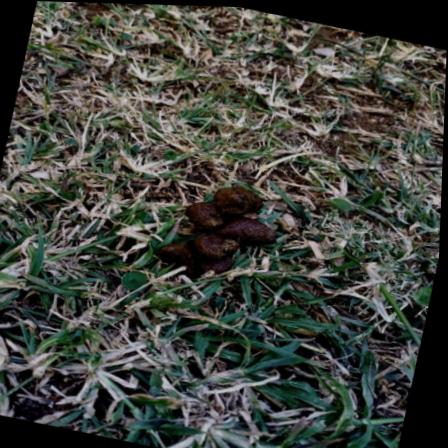dog-poop: (148, 161, 286, 291)
